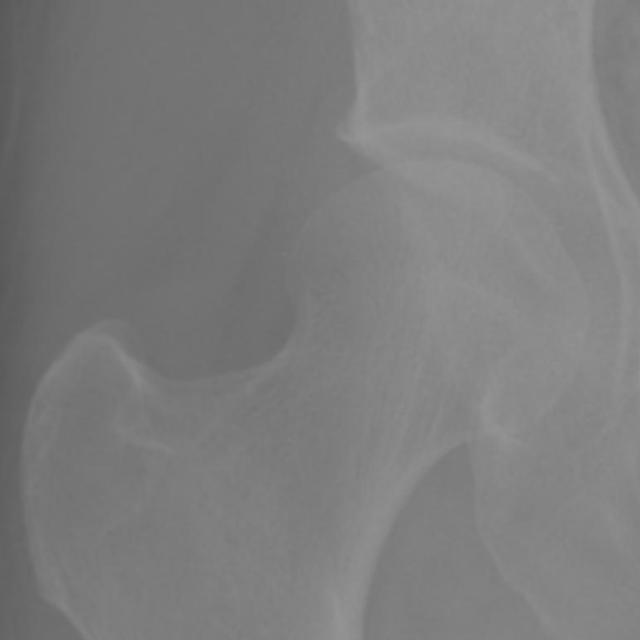Fitted_femural_head: (306, 163, 432, 306)
